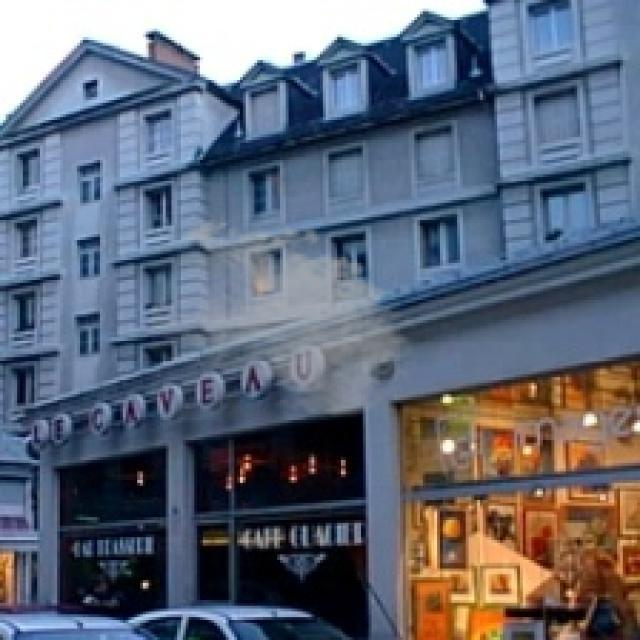Smoke: (151, 214, 423, 423)
